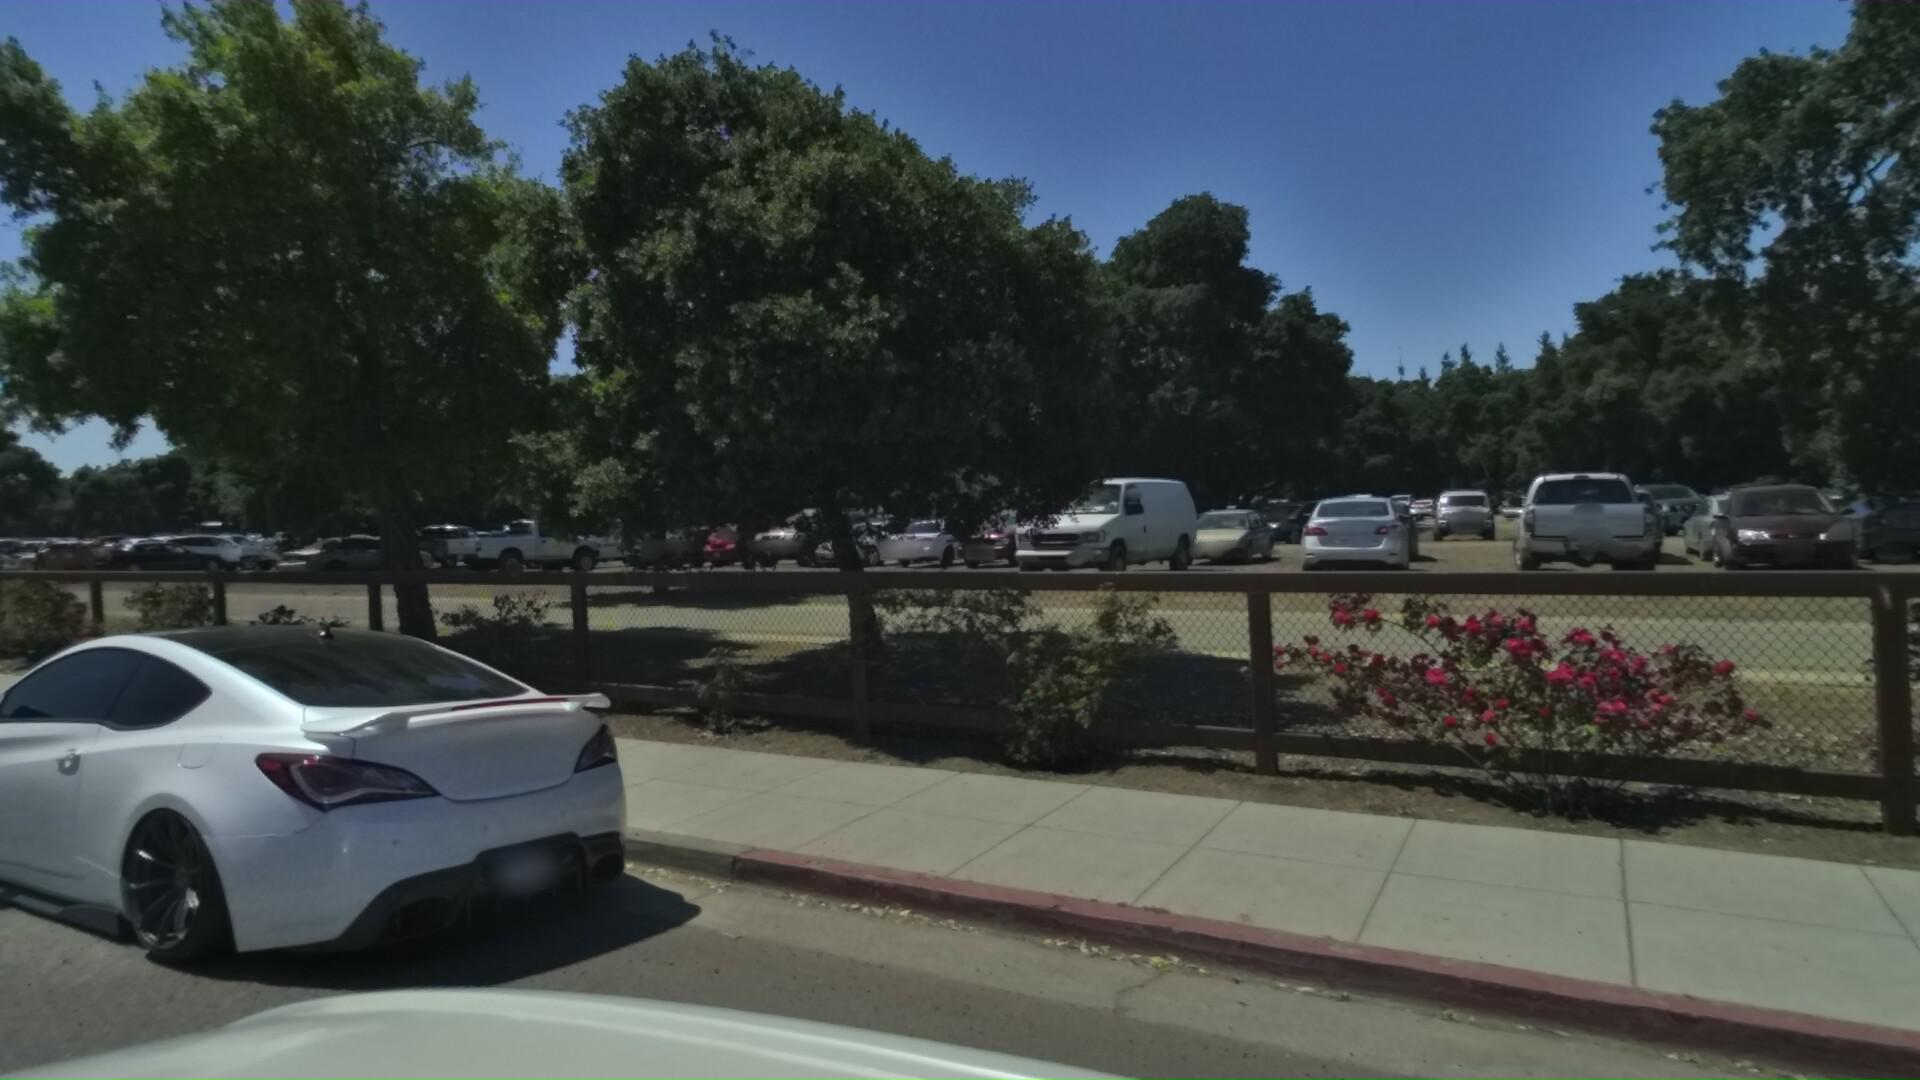car: (0, 585, 796, 1080)
